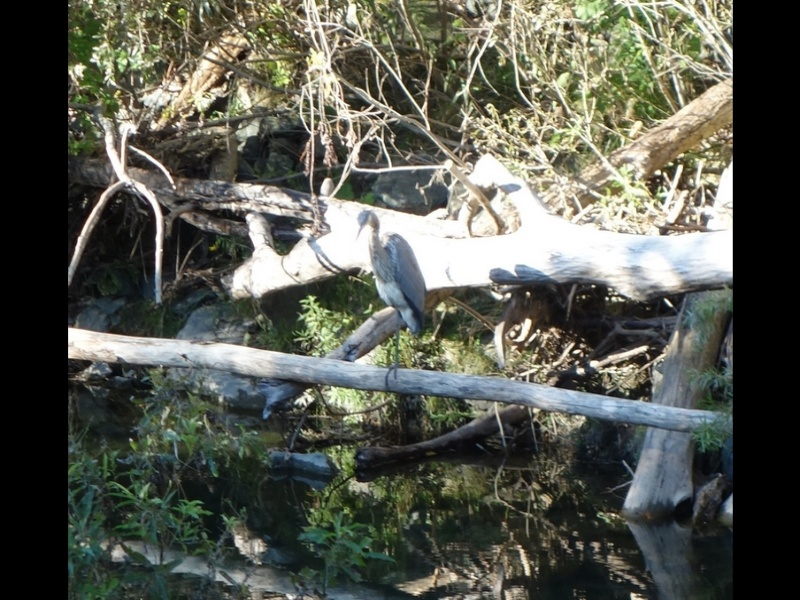heron: (355, 208, 433, 369)
